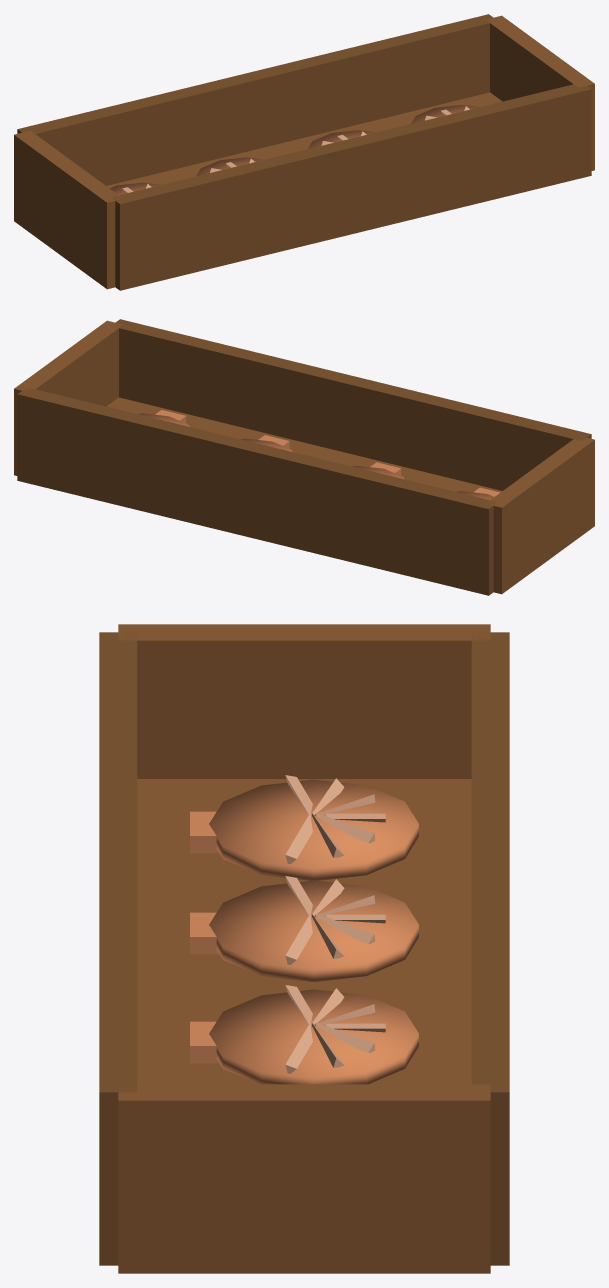
The model's file is Sea_Scallop.fbx.
3 renders of one model, top to bottom at view 1: azimuth 30°, elevation 25°; view 2: azimuth 150°, elevation 25°; view 3: azimuth 270°, elevation 25°, orthographic. The views are drawn at different scales.
Visible parts, largest first — view 1: Sea_Scallop__Stack; view 2: Sea_Scallop__Stack; view 3: Sea_Scallop__Stack.
Part boxes in pixels (x1,y1,x2,y2): Sea_Scallop__Stack: (14, 14, 594, 290); Sea_Scallop__Stack: (14, 319, 594, 595); Sea_Scallop__Stack: (99, 624, 509, 1273).
Bounding box in the file's own units: 0.236 × 0.04 × 0.086.
